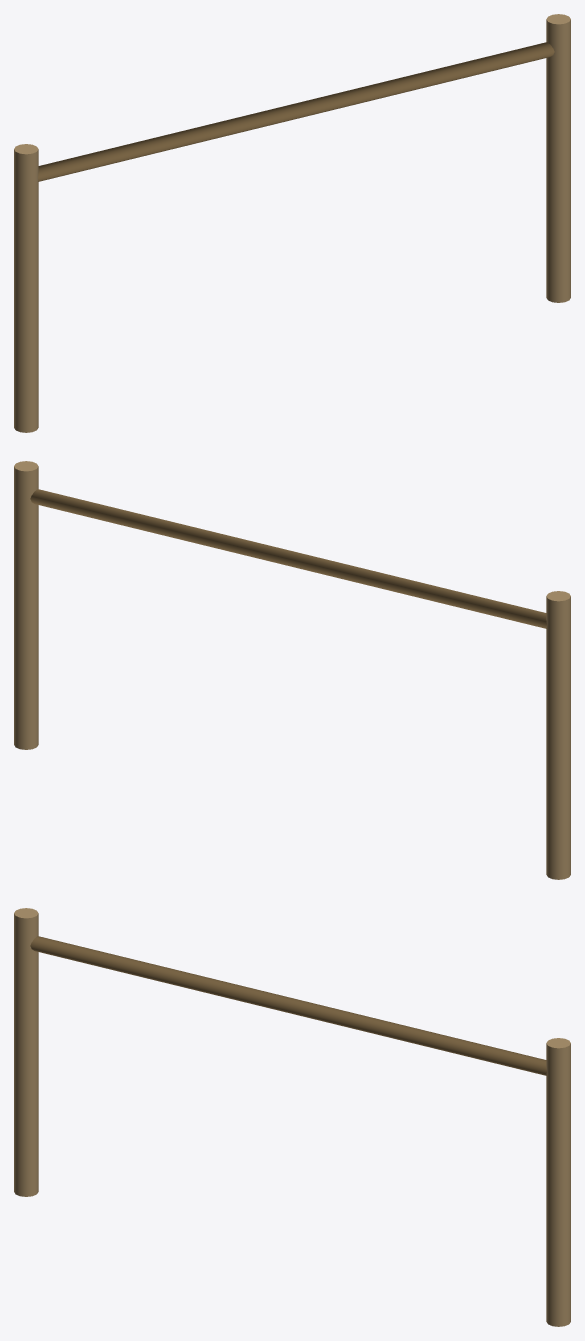
Rendered from env-ww-hitchpost.glb.
3 views of the same model, one above another, from view 1: azimuth 30°, elevation 25°; view 2: azimuth 150°, elevation 25°; view 3: azimuth 330°, elevation 25° (orthographic).
Bounding box in the file's own units: 2.08 × 1 × 0.08.
